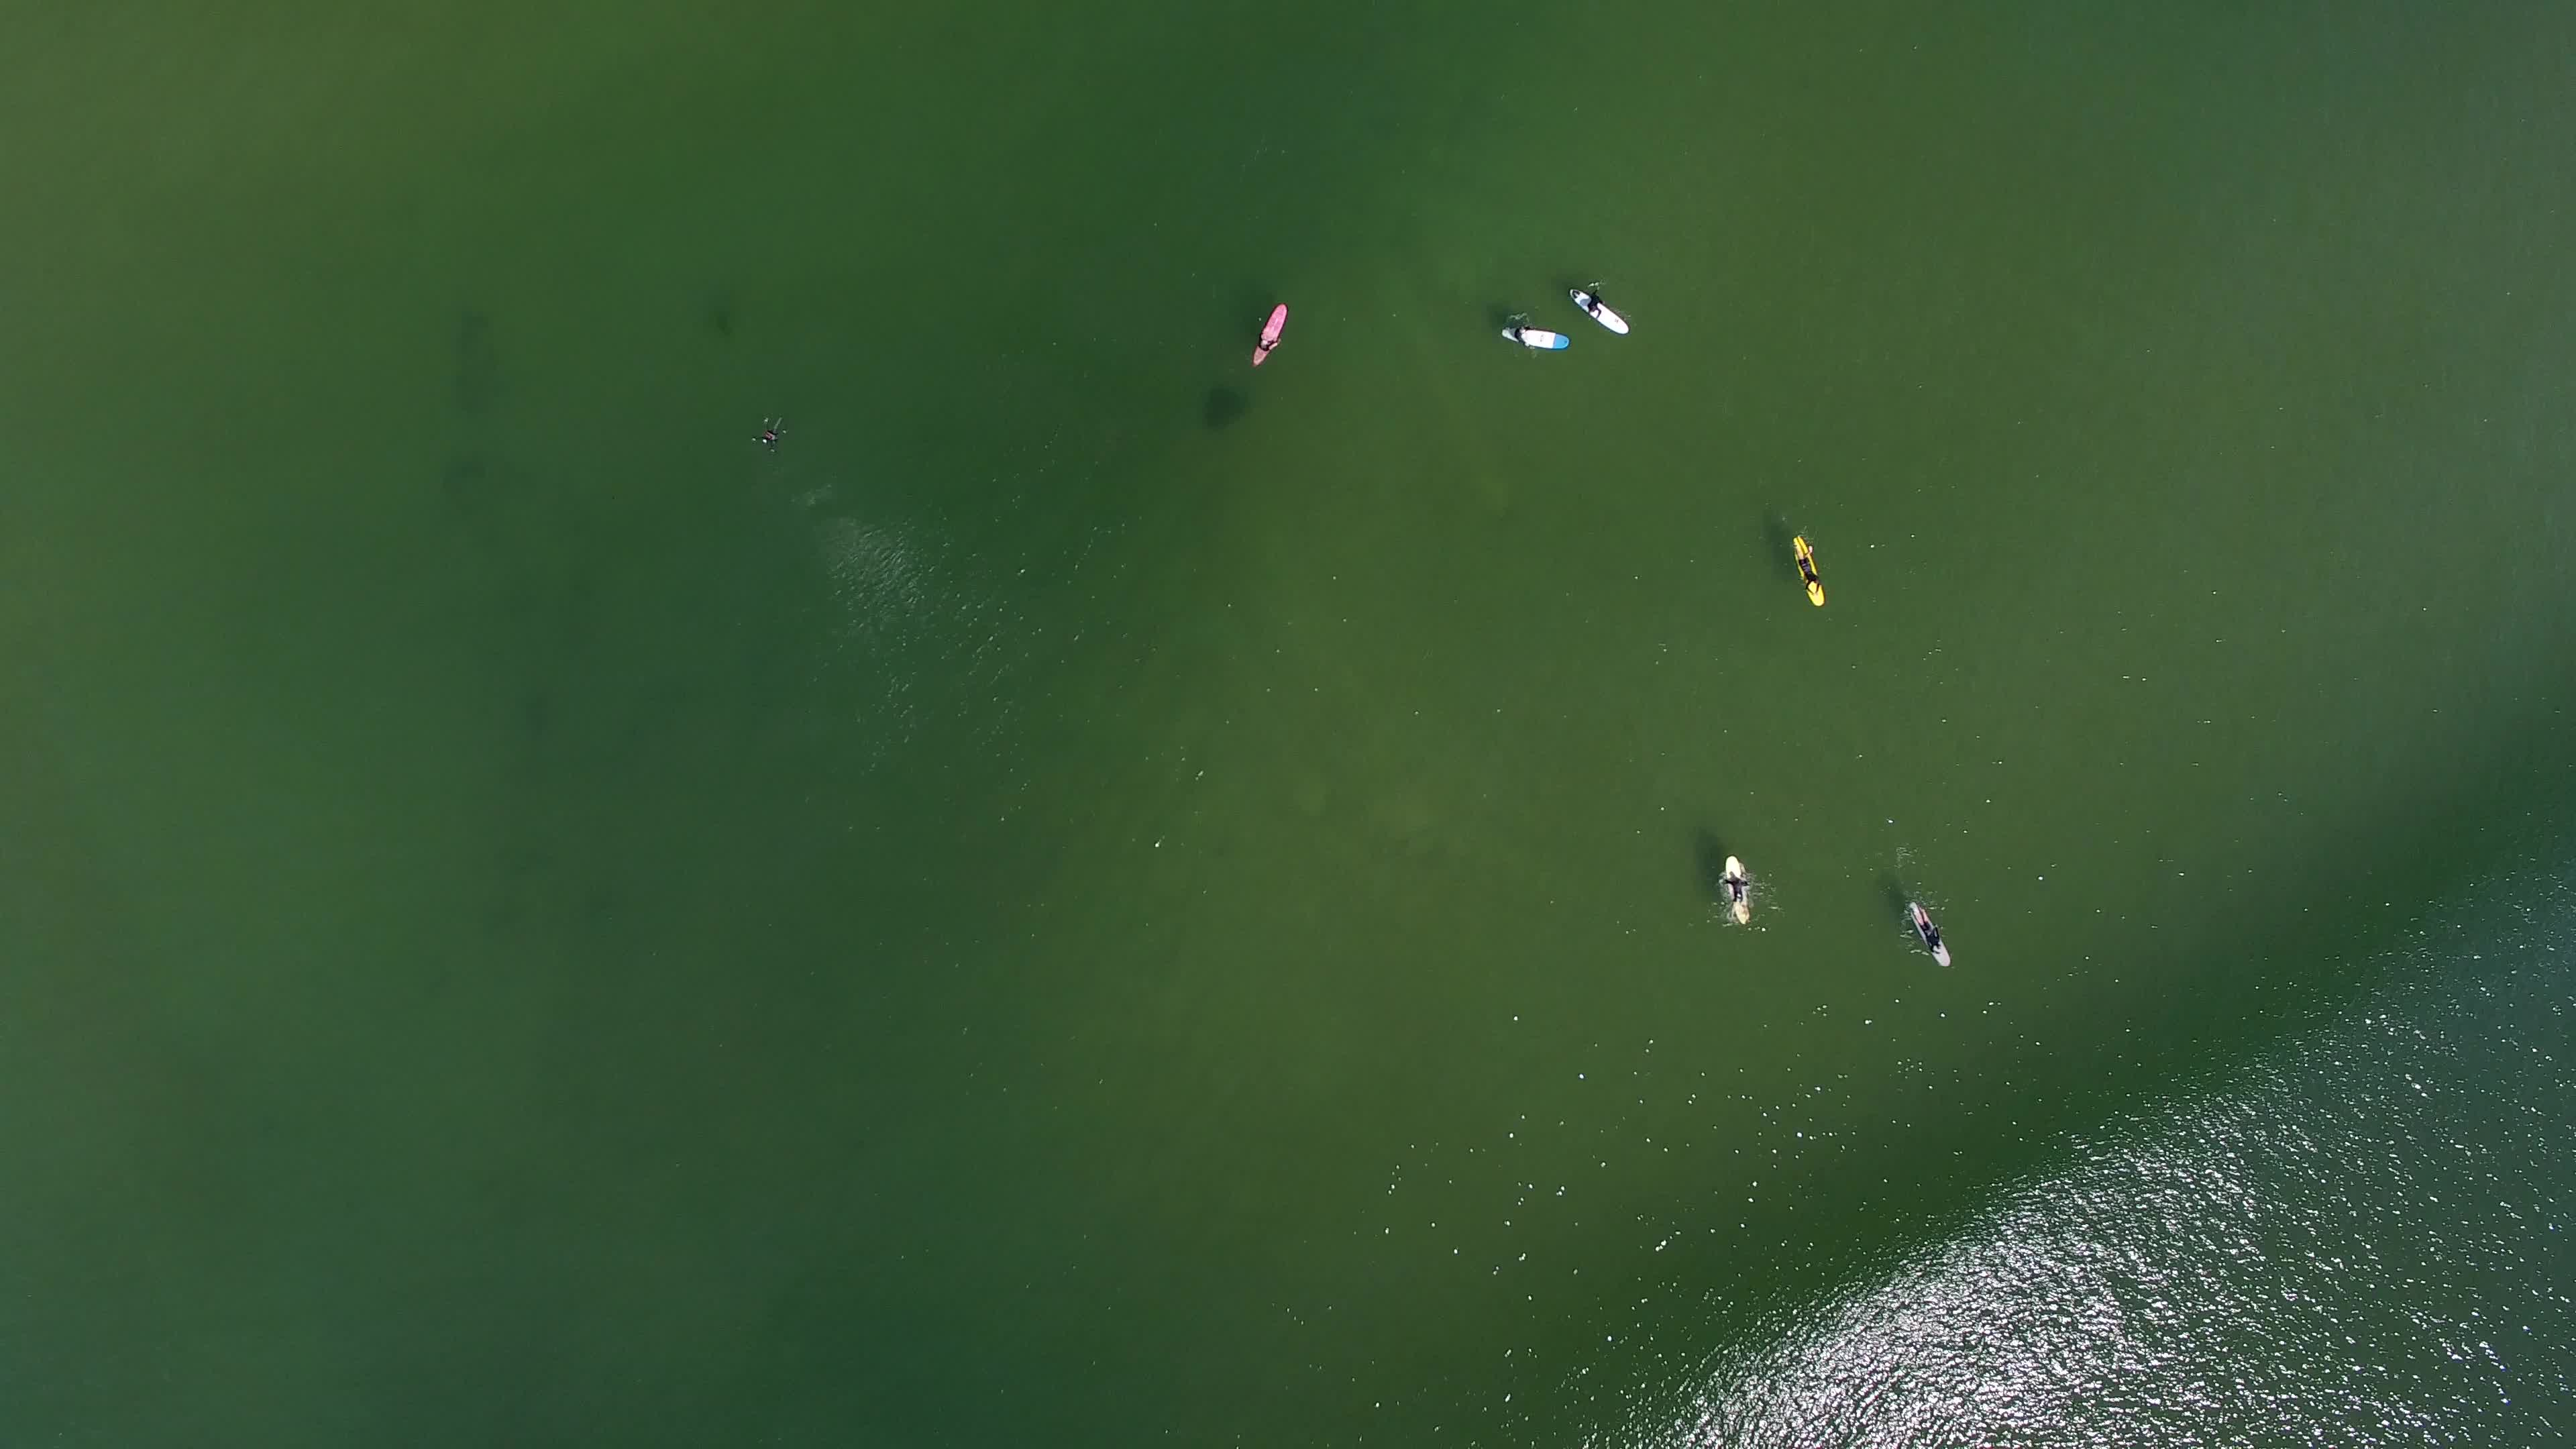surfer: (1895, 899, 1959, 973), (1562, 278, 1635, 338), (1716, 842, 1762, 932), (1246, 297, 1297, 372), (1785, 533, 1829, 612), (1500, 317, 1575, 361)
